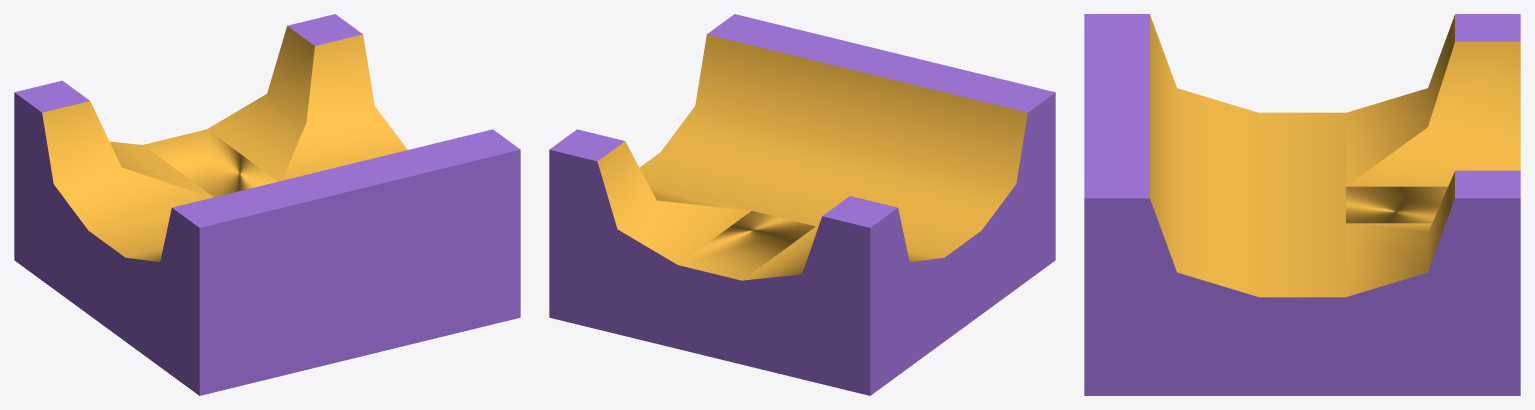
The model's file is split-col.glb.
3 renders of one model, left to right at view 1: azimuth 30°, elevation 25°; view 2: azimuth 150°, elevation 25°; view 3: azimuth 270°, elevation 25°, orthographic. The views are drawn at different scales.
Parts seen in each view (by area): view 1: split-col; view 2: split-col; view 3: split-col.
Part boxes in pixels (box(x1,y1,x2,y2)): split-col: box(14, 14, 520, 395); split-col: box(549, 14, 1055, 395); split-col: box(1084, 14, 1520, 395).
Bounding box in the file's own units: 1 × 0.5 × 1.
1 material, 1 textured.
